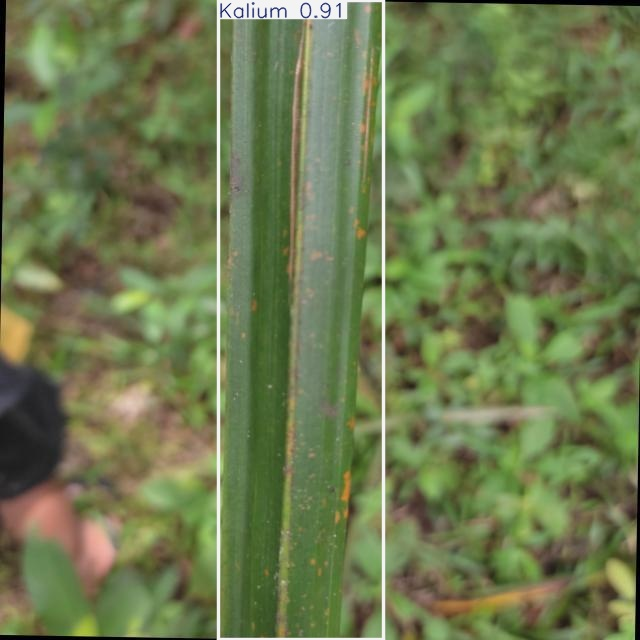Kalium: (219, 0, 383, 640)
